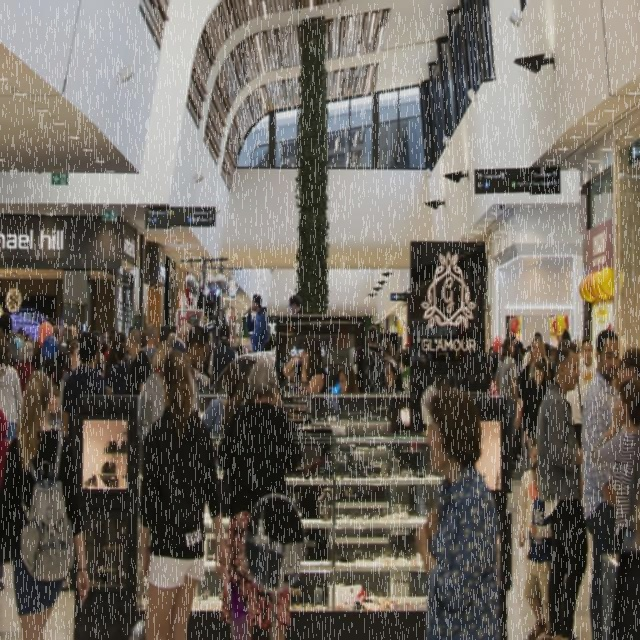pessoa: (137, 351, 231, 639), (0, 371, 91, 638), (217, 357, 302, 639), (412, 388, 502, 639), (580, 328, 628, 639), (540, 338, 588, 636), (590, 378, 640, 556), (282, 333, 328, 522), (608, 425, 639, 639), (550, 353, 586, 513), (524, 458, 555, 639), (61, 330, 108, 442), (124, 326, 152, 493), (512, 336, 550, 433), (494, 335, 519, 472), (522, 358, 550, 452), (200, 375, 242, 435), (183, 325, 211, 415), (0, 337, 24, 439), (518, 434, 539, 548), (207, 322, 240, 392), (0, 408, 12, 588), (59, 339, 83, 417), (612, 336, 640, 399), (362, 324, 386, 396), (245, 292, 270, 354), (13, 342, 37, 399), (220, 358, 256, 396), (104, 331, 128, 384), (106, 342, 130, 394), (430, 352, 462, 390), (0, 312, 22, 366), (92, 326, 115, 376), (152, 330, 176, 376), (522, 330, 550, 369), (578, 336, 598, 390), (50, 322, 79, 358), (485, 339, 503, 396), (140, 322, 159, 372), (46, 384, 64, 432), (512, 333, 525, 391), (556, 327, 582, 355), (51, 351, 68, 392), (171, 321, 193, 352), (93, 330, 106, 378), (193, 360, 212, 392), (338, 364, 358, 394), (400, 350, 410, 395), (229, 336, 251, 356), (273, 372, 284, 408), (380, 336, 396, 360), (288, 294, 306, 315), (543, 341, 556, 370), (61, 568, 76, 592), (32, 338, 42, 369), (15, 326, 33, 343), (388, 343, 404, 362), (516, 425, 524, 459), (262, 334, 276, 353), (99, 325, 110, 343), (138, 334, 148, 350), (60, 337, 72, 350), (391, 292, 404, 301), (208, 339, 213, 357), (420, 352, 428, 363), (364, 333, 369, 347), (524, 343, 531, 353), (72, 333, 81, 339), (404, 342, 408, 350)
